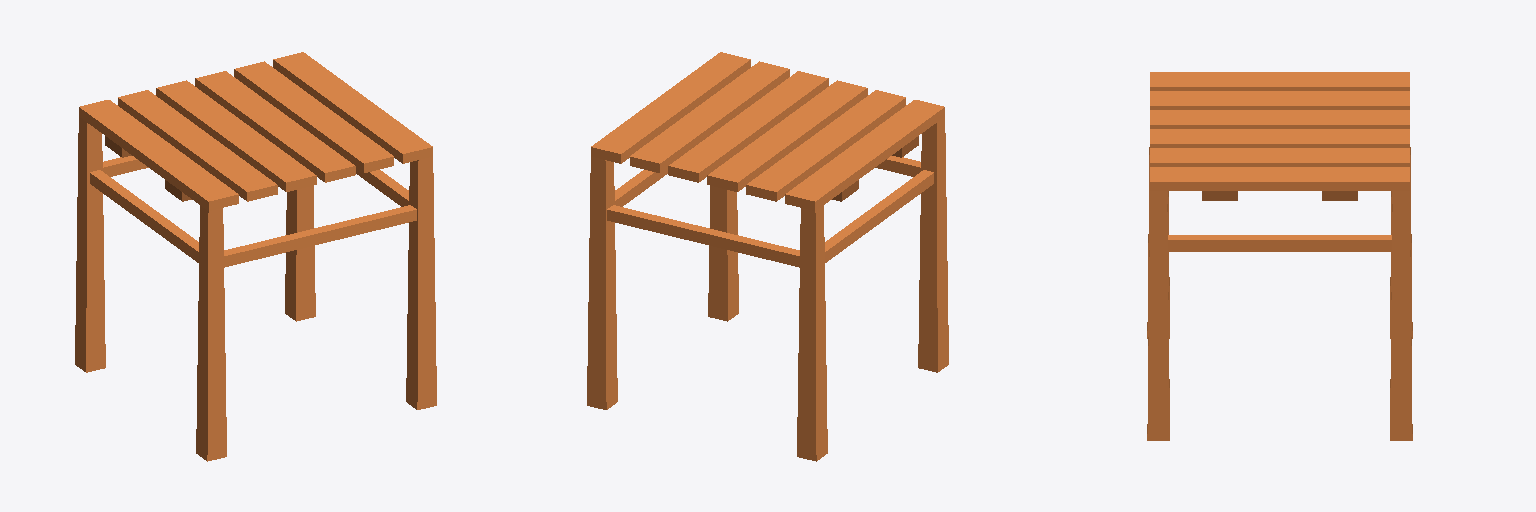
The model's file is structureBase.obj.
3 renders of one model, left to right at view 1: azimuth 30°, elevation 25°; view 2: azimuth 150°, elevation 25°; view 3: azimuth 270°, elevation 25°, orthographic.
Parts seen in each view (by area): view 1: structureBase; view 2: structureBase; view 3: structureBase.
Boxes of the visible parts, x1=… form: structureBase: x1=75, y1=52, x2=436, y2=461; structureBase: x1=587, y1=52, x2=948, y2=461; structureBase: x1=1147, y1=72, x2=1412, y2=440.
Size of the model in its own units: 0.5 by 0.5375 by 0.5.